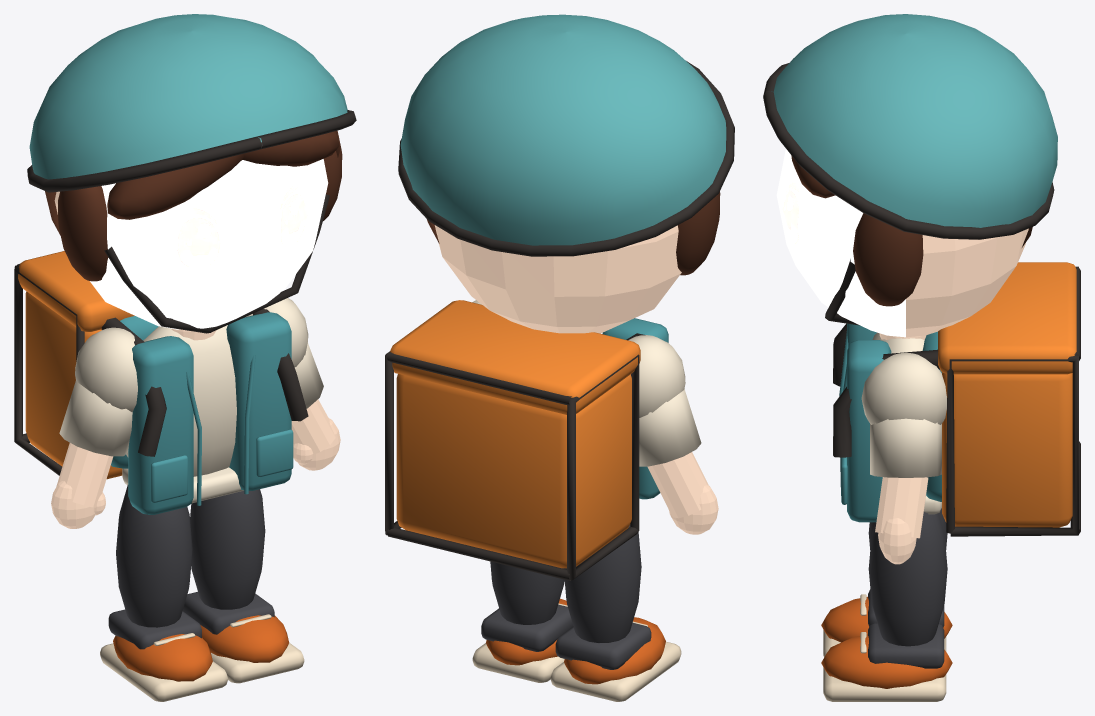
The model's file is person-delivery.glb.
3 views of the same model, side by side, from view 1: azimuth 30°, elevation 25°; view 2: azimuth 150°, elevation 25°; view 3: azimuth 270°, elevation 25° (orthographic). The views are drawn at different scales.
Parts seen in each view (by area): view 1: Separate teal safety helmet shell, Smooth skin round head, Trouser leg -1, Open vest panel -1, Trouser leg 1, Open vest panel 1, Unbranded insulated backpack, Tee torso, Continuous dark helmet rim, Insulated box lid, Soft swept hair clump, Tee shoulder -1 (+27 smaller); view 2: Separate teal safety helmet shell, Unbranded insulated backpack, Smooth skin round head, Insulated box lid, Trouser leg -1, Continuous dark helmet rim, Backpack vertical piping -0.245, Trouser leg 1, Tee sleeve -1, Tee shoulder -1, Forearm -1, Trouser cuff -1 (+11 smaller); view 3: Separate teal safety helmet shell, Unbranded insulated backpack, Smooth skin round head, Insulated box lid, Trouser leg 1, Tee shoulder 1, Soft swept hair clump.003, Continuous dark helmet rim, Open vest panel 1, Backpack vertical piping 0.245, Tee sleeve 1, Sneaker upper 1 (+11 smaller).
Part boxes in pixels (bbox=[...]): Separate teal safety helmet shell: bbox=[29, 14, 347, 179]; Smooth skin round head: bbox=[54, 159, 328, 329]; Trouser leg -1: bbox=[116, 485, 192, 627]; Open vest panel -1: bbox=[128, 336, 193, 514]; Trouser leg 1: bbox=[190, 489, 265, 609]; Open vest panel 1: bbox=[226, 312, 291, 490]; Unbranded insulated backpack: bbox=[25, 291, 122, 479]; Tee torso: bbox=[126, 325, 236, 476]; Continuous dark helmet rim: bbox=[27, 110, 356, 192]; Insulated box lid: bbox=[18, 251, 134, 331]; Soft swept hair clump: bbox=[107, 153, 243, 219]; Tee shoulder -1: bbox=[75, 327, 137, 411]; Separate teal safety helmet shell: bbox=[400, 14, 726, 245]; Unbranded insulated backpack: bbox=[396, 374, 631, 568]; Smooth skin round head: bbox=[434, 225, 681, 333]; Insulated box lid: bbox=[390, 300, 640, 414]; Trouser leg -1: bbox=[564, 524, 641, 642]; Continuous dark helmet rim: bbox=[398, 61, 734, 256]; Backpack vertical piping -0.245: bbox=[567, 354, 639, 580]; Trouser leg 1: bbox=[490, 561, 564, 624]; Tee sleeve -1: bbox=[639, 389, 701, 466]; Tee shoulder -1: bbox=[628, 335, 685, 417]; Forearm -1: bbox=[647, 452, 708, 518]; Trouser cuff -1: bbox=[555, 623, 651, 669]; Separate teal safety helmet shell: bbox=[771, 14, 1057, 227]; Unbranded insulated backpack: bbox=[942, 372, 1072, 527]; Smooth skin round head: bbox=[776, 149, 1028, 337]; Insulated box lid: bbox=[938, 262, 1076, 374]; Trouser leg 1: bbox=[868, 512, 947, 646]; Tee shoulder 1: bbox=[861, 352, 946, 424]; Soft swept hair clump.003: bbox=[853, 213, 923, 306]; Continuous dark helmet rim: bbox=[763, 63, 1054, 239]; Open vest panel 1: bbox=[847, 340, 891, 522]; Backpack vertical piping 0.245: bbox=[946, 354, 1078, 536]; Tee sleeve 1: bbox=[870, 418, 941, 477]; Sneaker upper 1: bbox=[821, 634, 952, 688].
Bounding box in the file's own units: 0.8182 × 1.65 × 0.7488.
11 materials, 1 textured.
